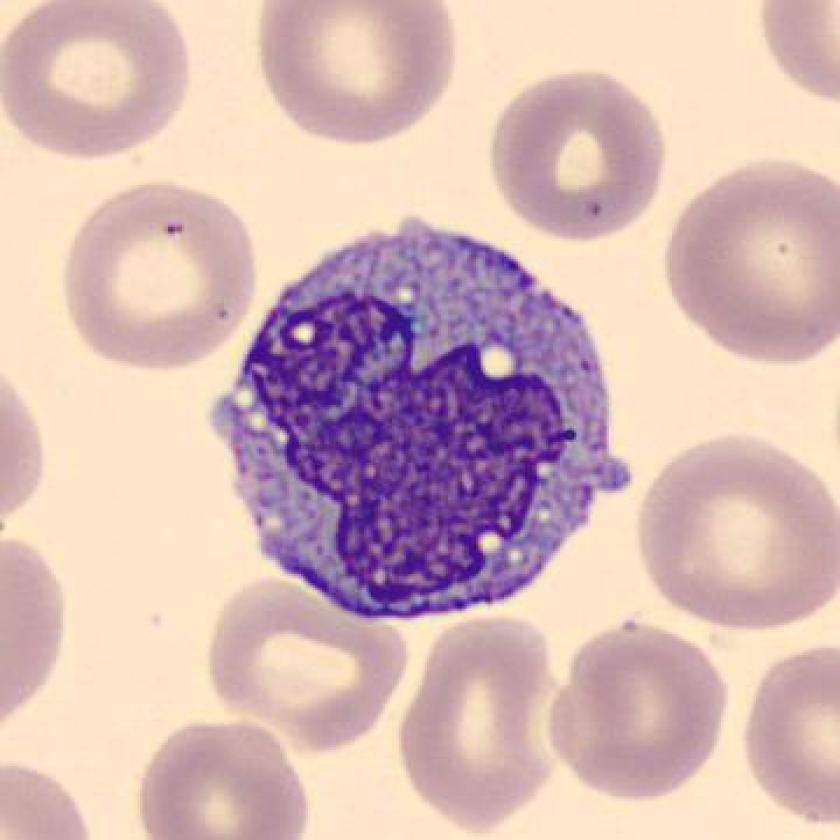monocyte: (190, 191, 650, 651)
